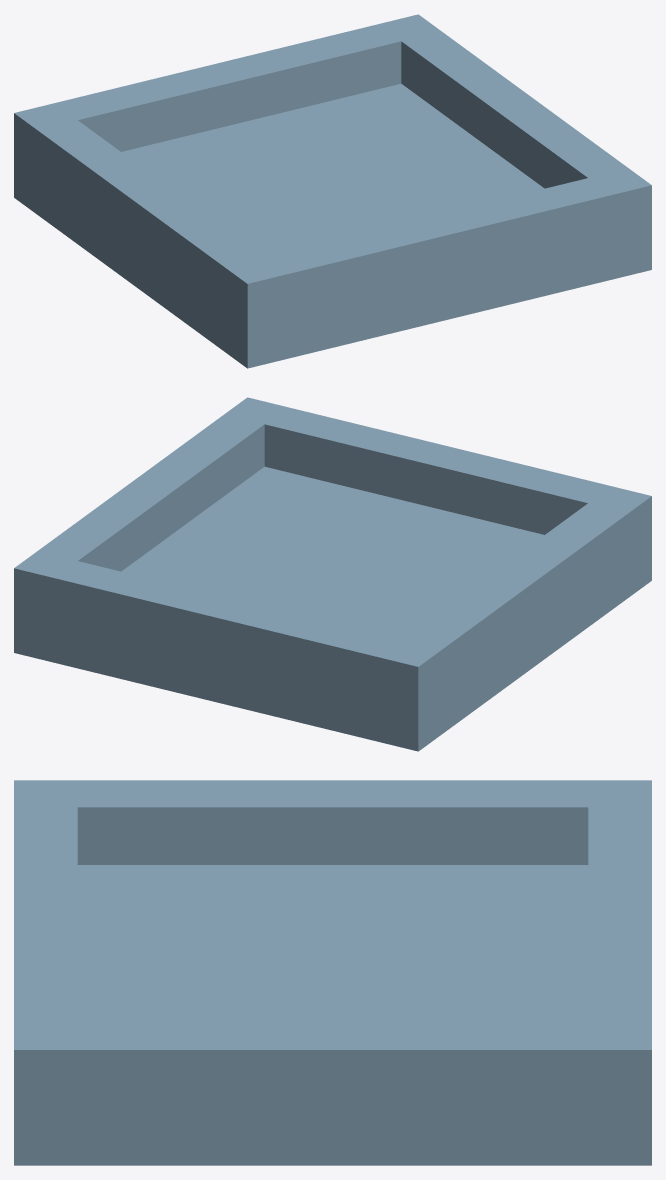
The model's file is TrashBT_Body.fbx.
3 renders of one model, top to bottom at view 1: azimuth 30°, elevation 25°; view 2: azimuth 150°, elevation 25°; view 3: azimuth 270°, elevation 25°, orthographic. The views are drawn at different scales.
Parts seen in each view (by area): view 1: Plane; view 2: Plane; view 3: Plane.
Boxes of the visible parts, x1,y1,x2,y2 form: Plane: [14, 14, 651, 368]; Plane: [14, 397, 651, 751]; Plane: [14, 780, 651, 1165].
Bounding box in the file's own units: 100 × 20 × 100.
